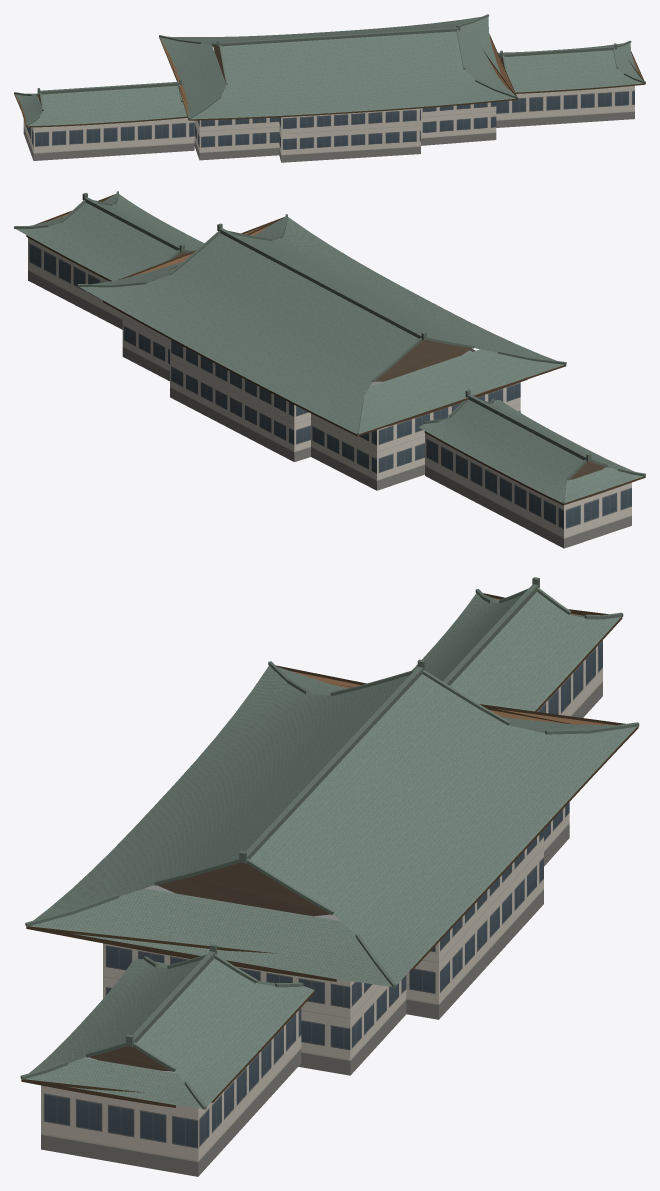
The model's file is namwon_station.glb.
The picture shows the model from 3 angles, top to bottom: view 1: azimuth 30°, elevation 25°; view 2: azimuth 150°, elevation 25°; view 3: azimuth 270°, elevation 25°; orthographic projection. The views are drawn at different scales.
Visible parts, largest first — view 1: namwon_station; view 2: namwon_station; view 3: namwon_station.
Boxes of the visible parts, <box> form: namwon_station: <box>14,14,645,162</box>; namwon_station: <box>14,191,645,548</box>; namwon_station: <box>20,577,639,1176</box>.
Bounding box in the file's own units: 115 × 18.43 × 57.14.
3 materials, 2 textured.
